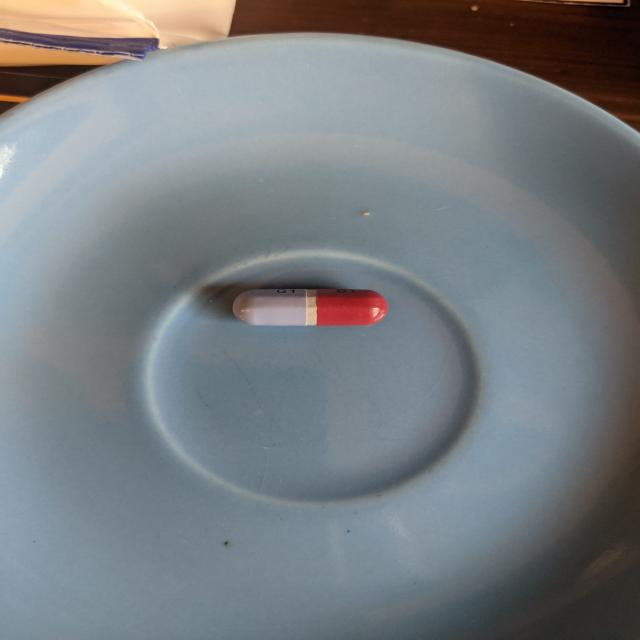non-organic waste: (230, 286, 390, 328)
